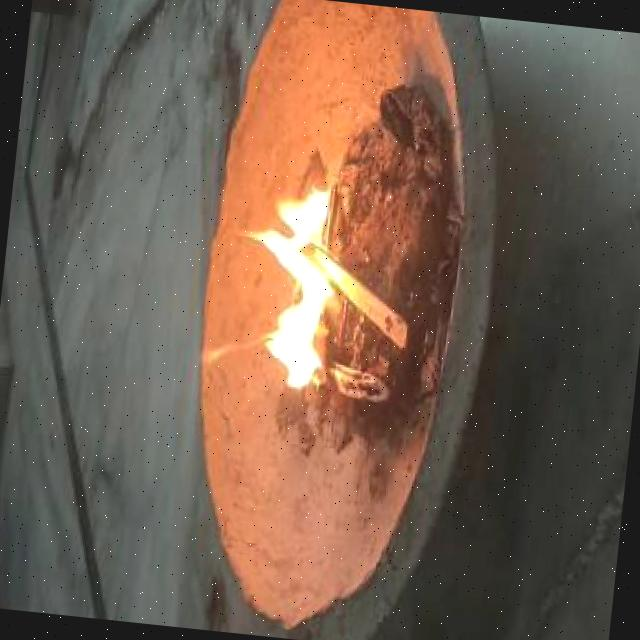fire: (205, 151, 364, 393)
